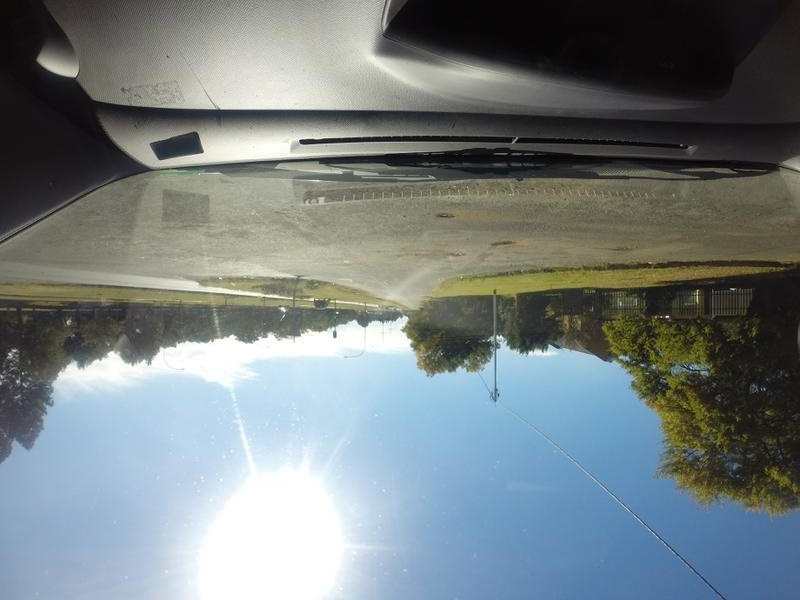pothole: (596, 241, 636, 255), (478, 235, 517, 246), (427, 212, 454, 220)
